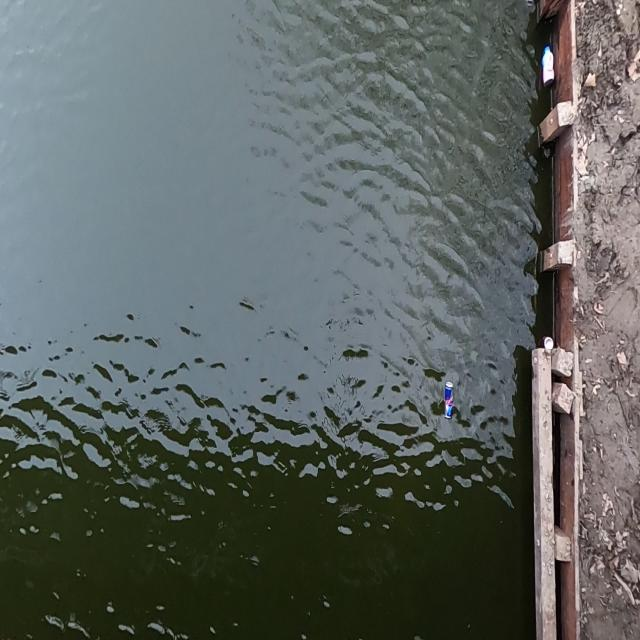Non plastique: (439, 372, 458, 436)
